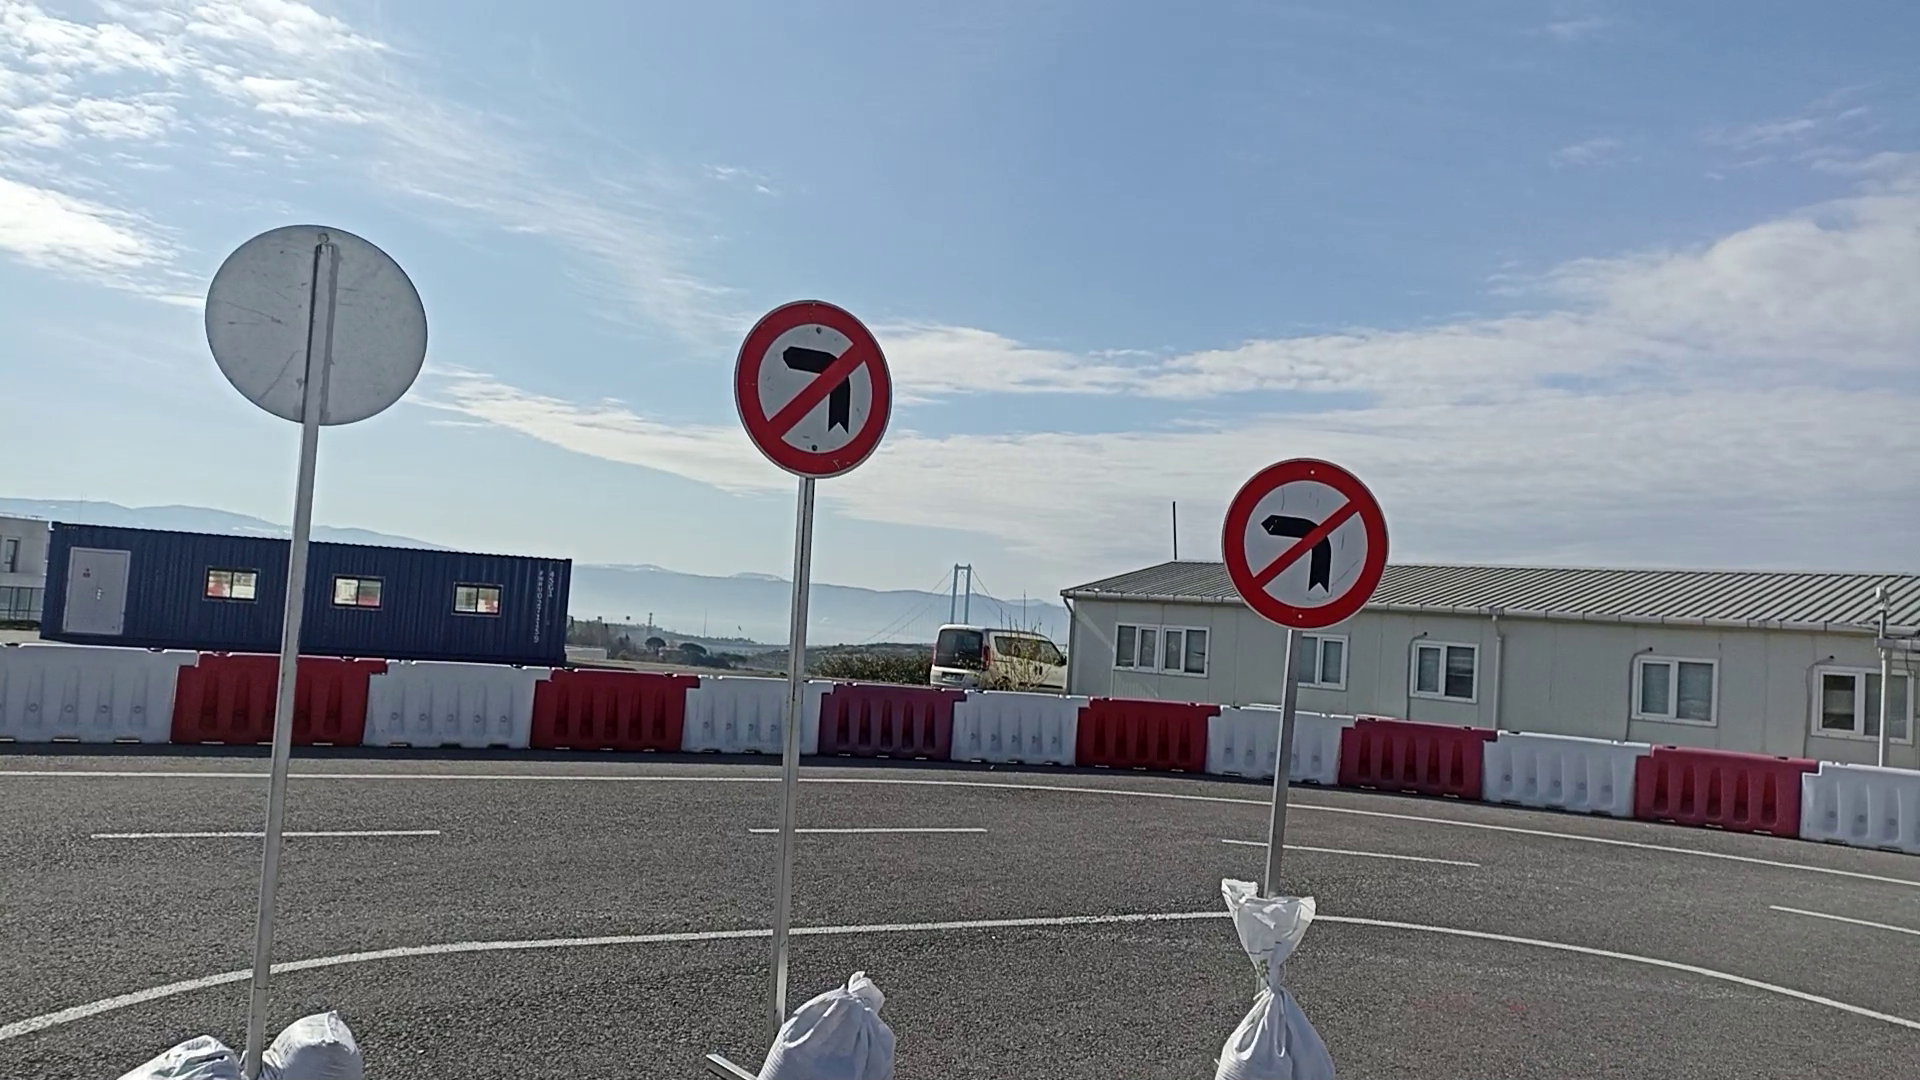noleft: (1218, 454, 1390, 636), (731, 295, 895, 483)
